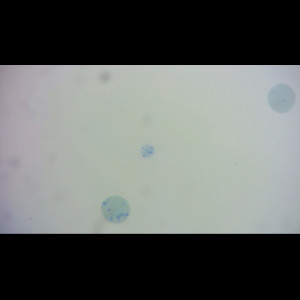aggregate reticulocyte: (99, 195, 131, 224)
punctate reticulocyte: (267, 82, 297, 114)
